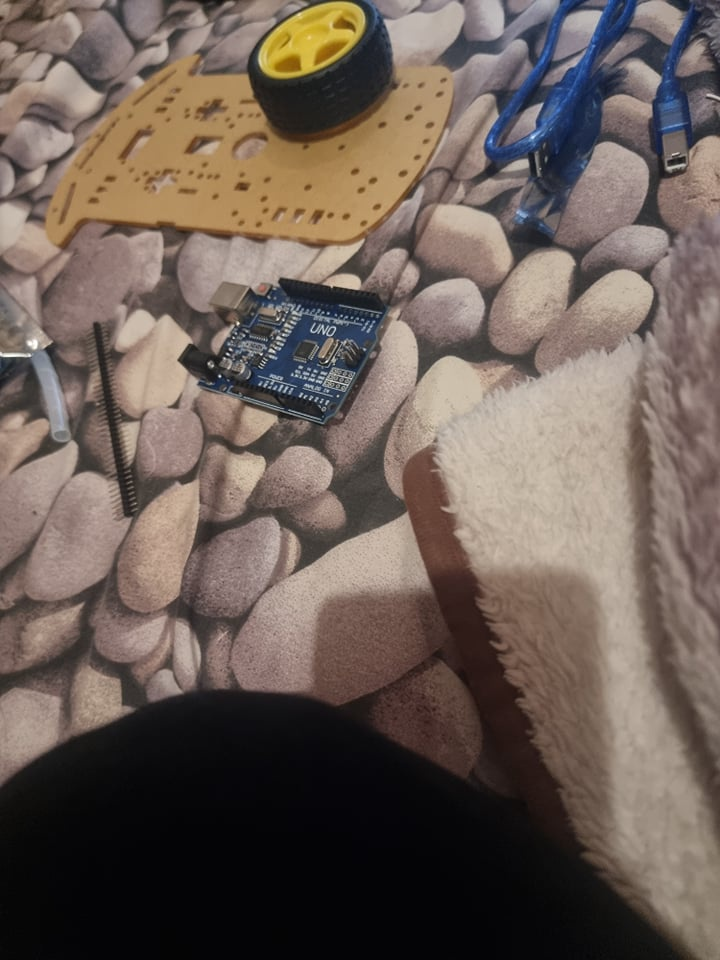UNO R3: (179, 277, 388, 427)
